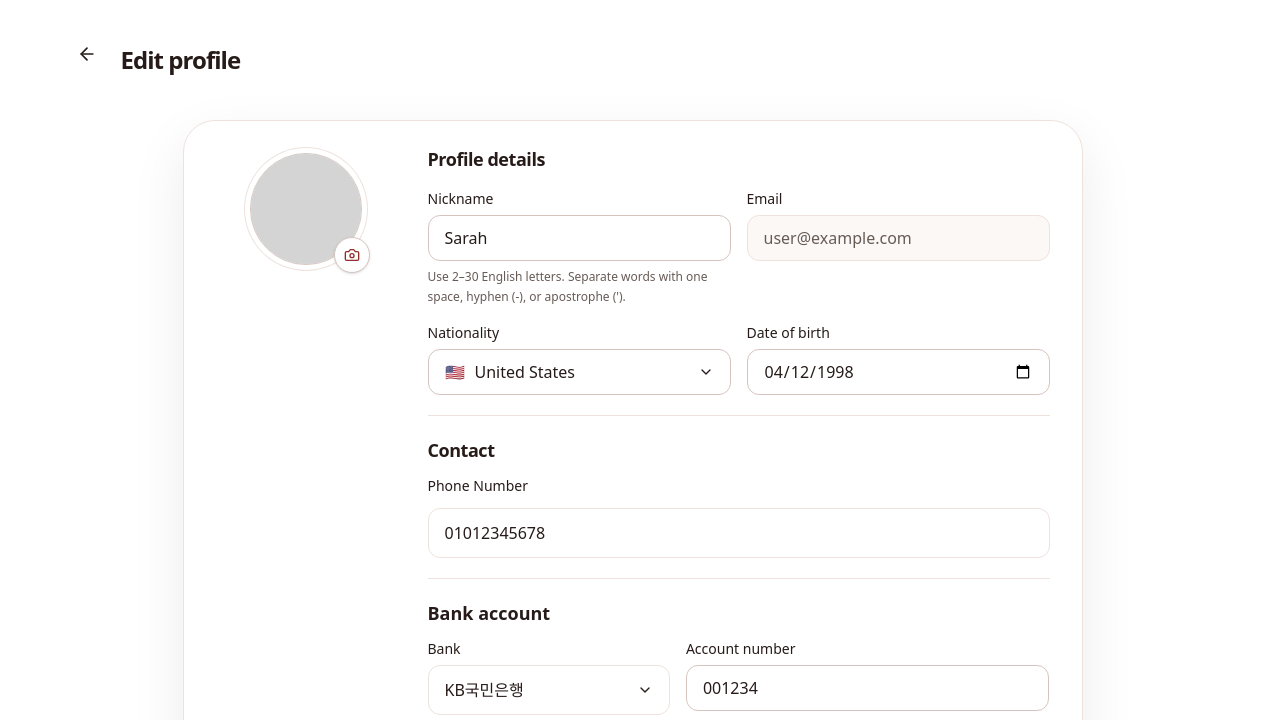
Test case: EditProfilePage › rejects an invalid changed account
Clear the field labelled "Account number" at [868, 688], box [686,665,1050,711]
(page scrolled)
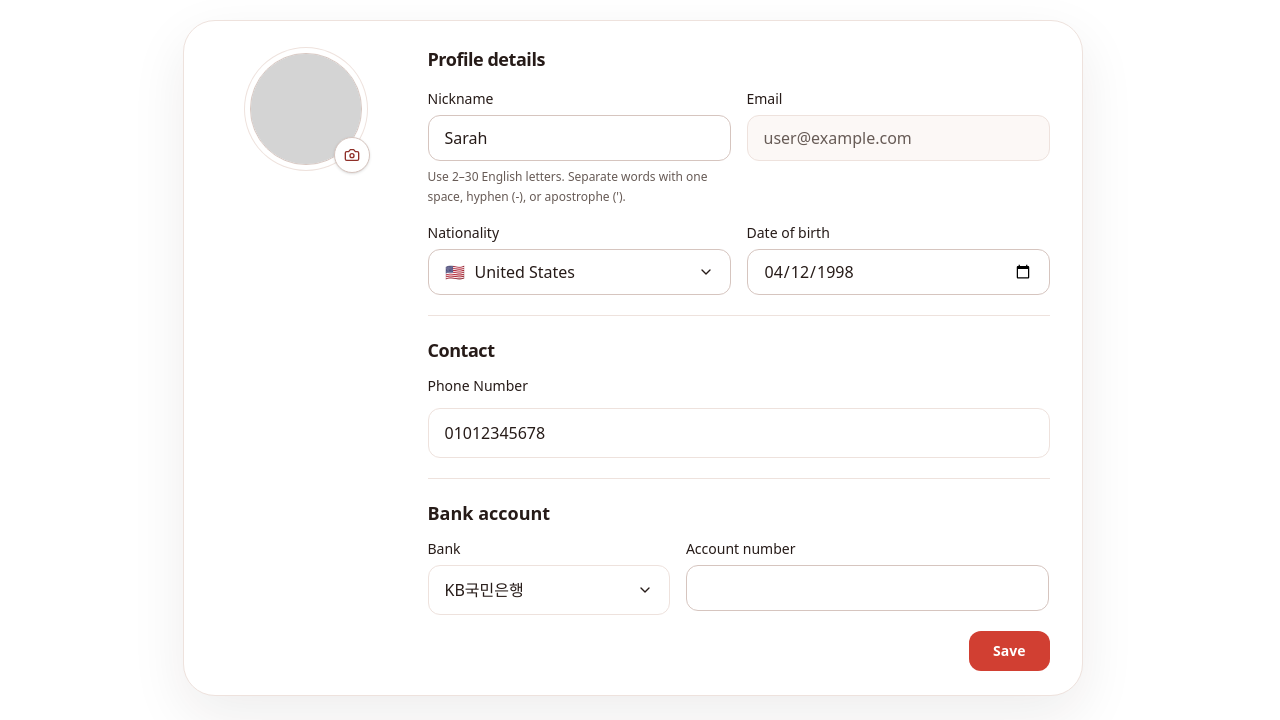
Click the button "Save" at [1009, 651], box [969,631,1050,671]
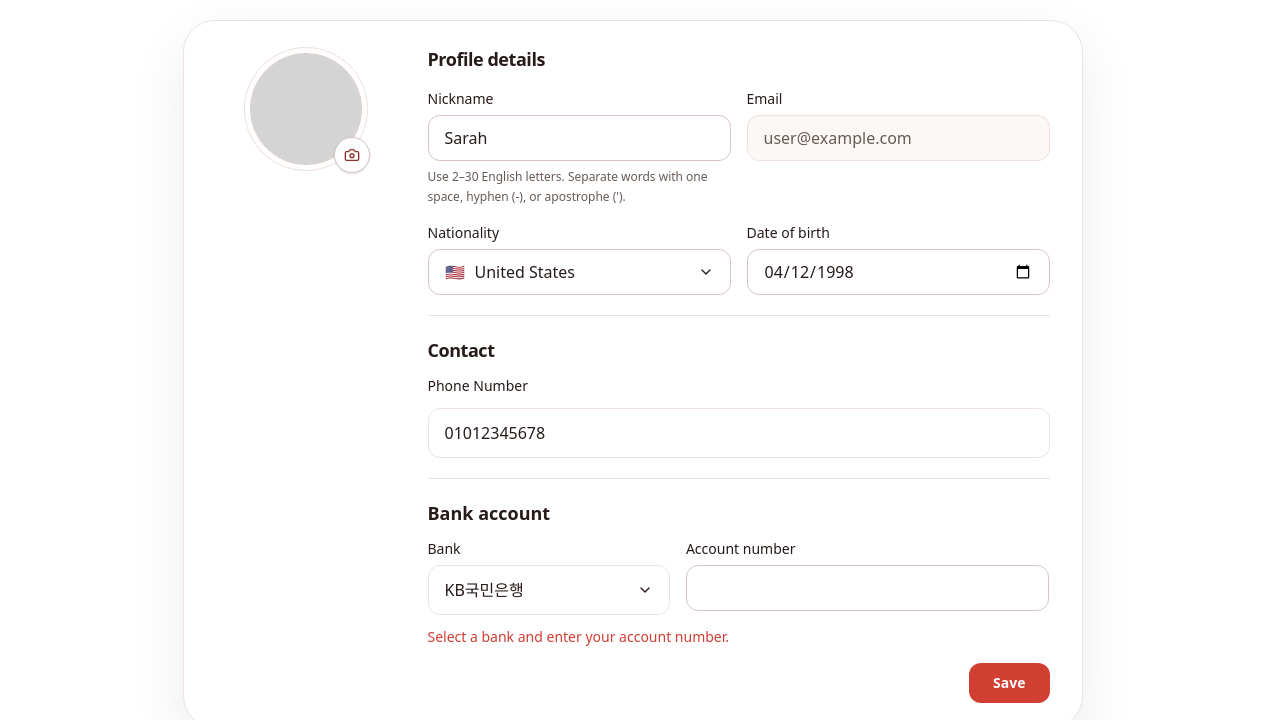
Result: the message "Select a bank and enter your account number." is shown at [428,627,729,646]
